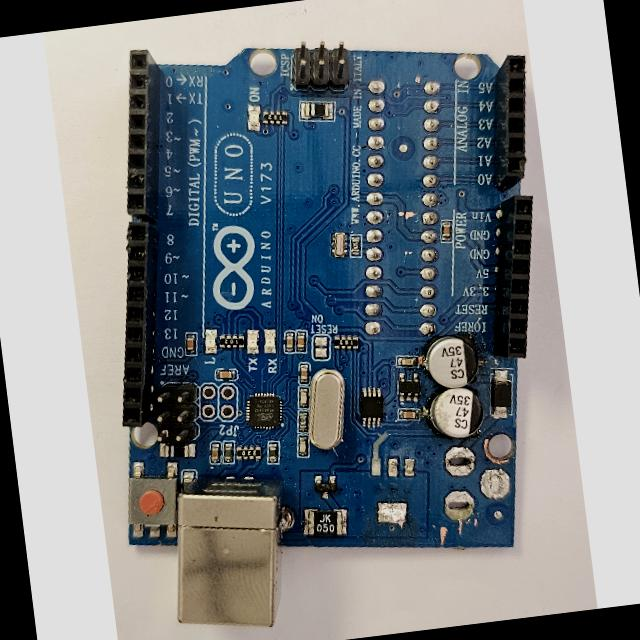missing_atmega: (360, 73, 443, 340)
missing_eps: (435, 444, 494, 534)
missing_voltage_reg: (365, 444, 421, 536)
